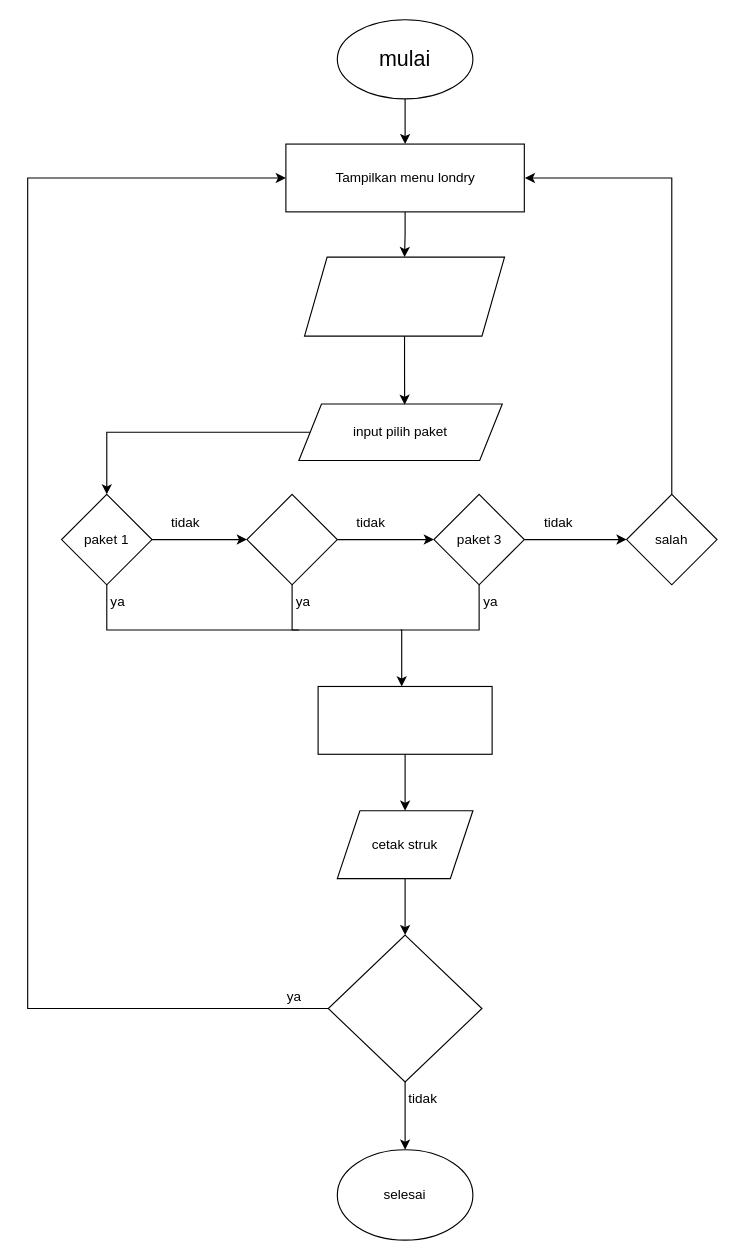
The diagram is 737 pixels wide and 1260 high, and some of its shapes have lost their labels. The centre of each missing label's shape, as x and y in pixels:
"hitung total bayar" goes at pixel 404 719.
"input nama pelanggan input berat cucian" goes at pixel 404 296.
"paket 2" goes at pixel 291 539.
"tambah pelanggan?" goes at pixel 404 1008.
